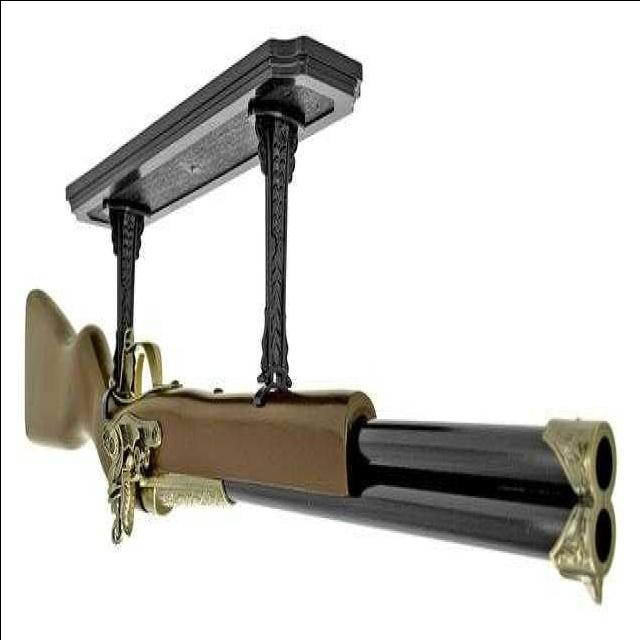heavyweapon: (10, 267, 627, 634)
